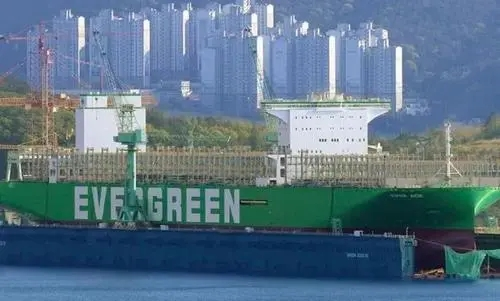Cargoship: (1, 34, 500, 267)
